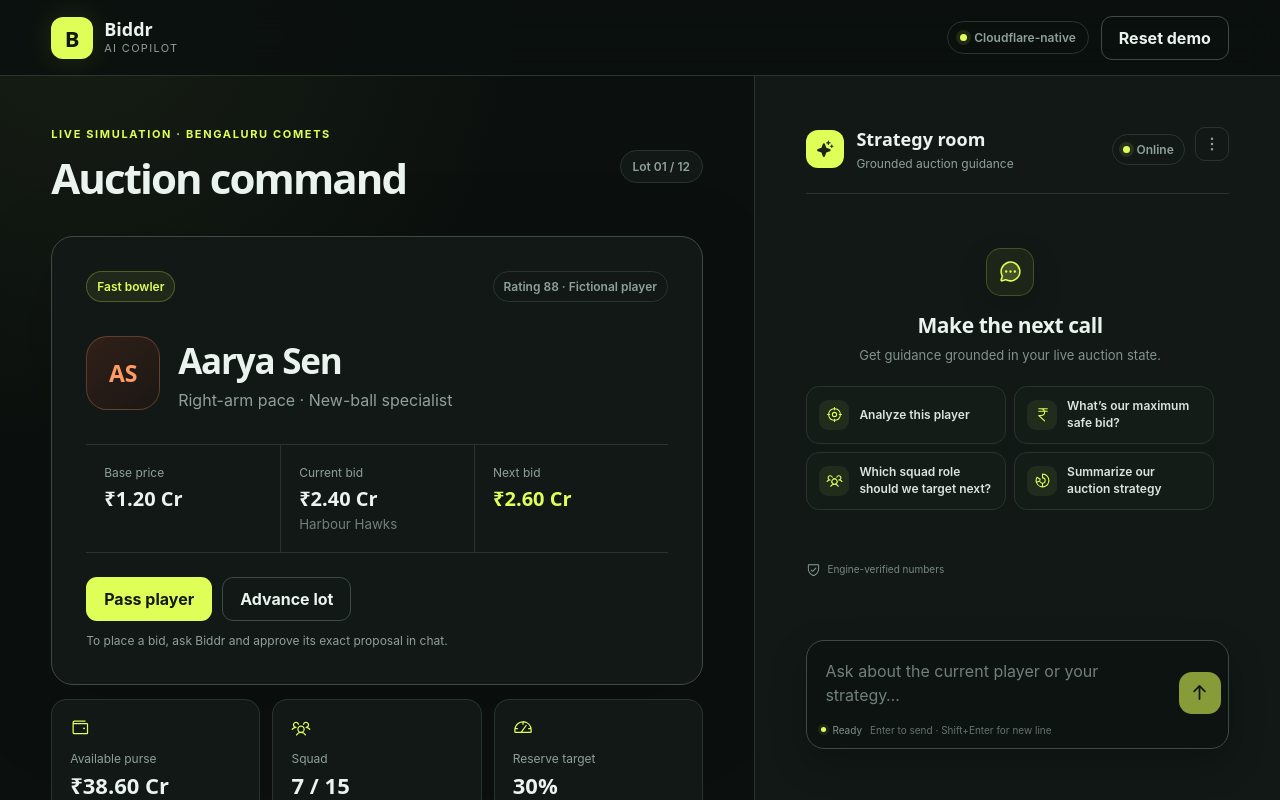
Scenario: Biddr application shell › requires confirmation before resetting the demo
Step 1. Click the button "Reset demo" → (1165, 38), box [1101, 16, 1229, 60]
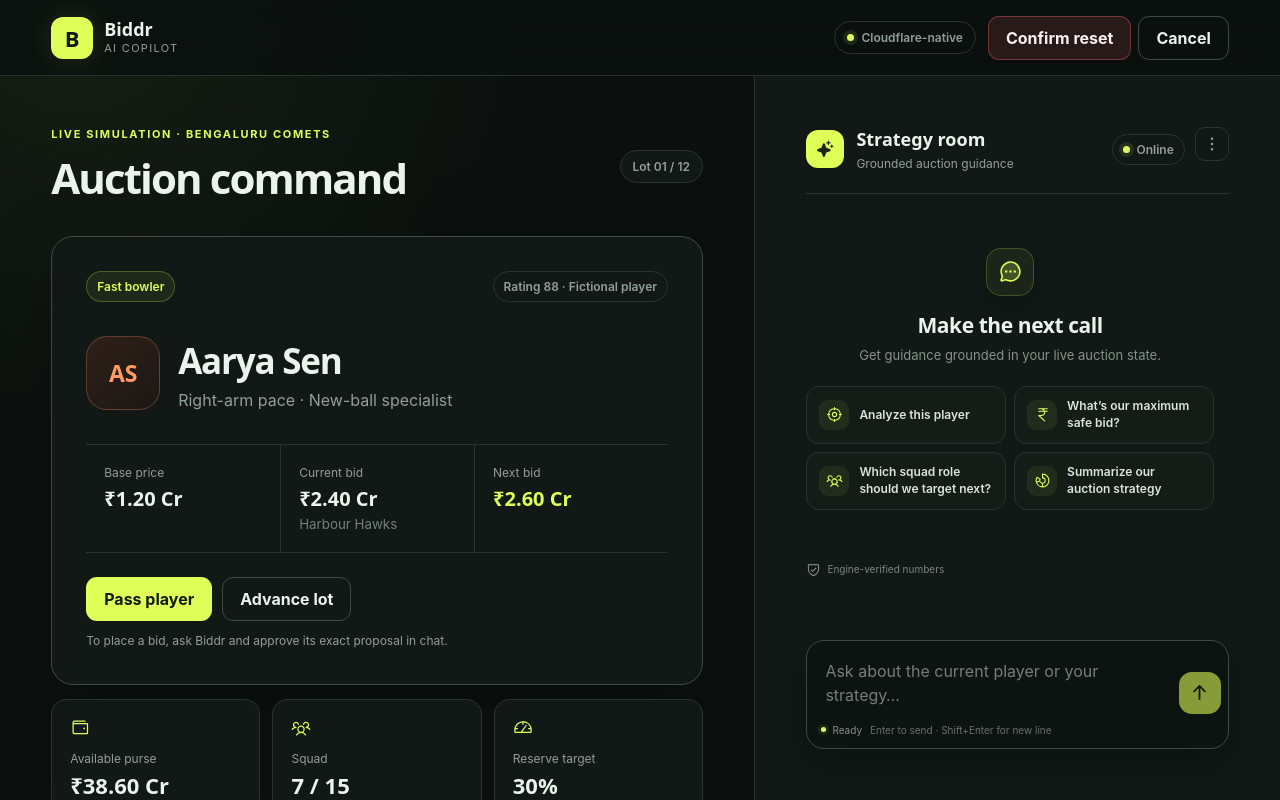
Now the element "Confirm reset" is shown, box [988, 16, 1229, 60]
Step 2. Click the button "Confirm reset" → (1060, 38), box [988, 16, 1132, 60]
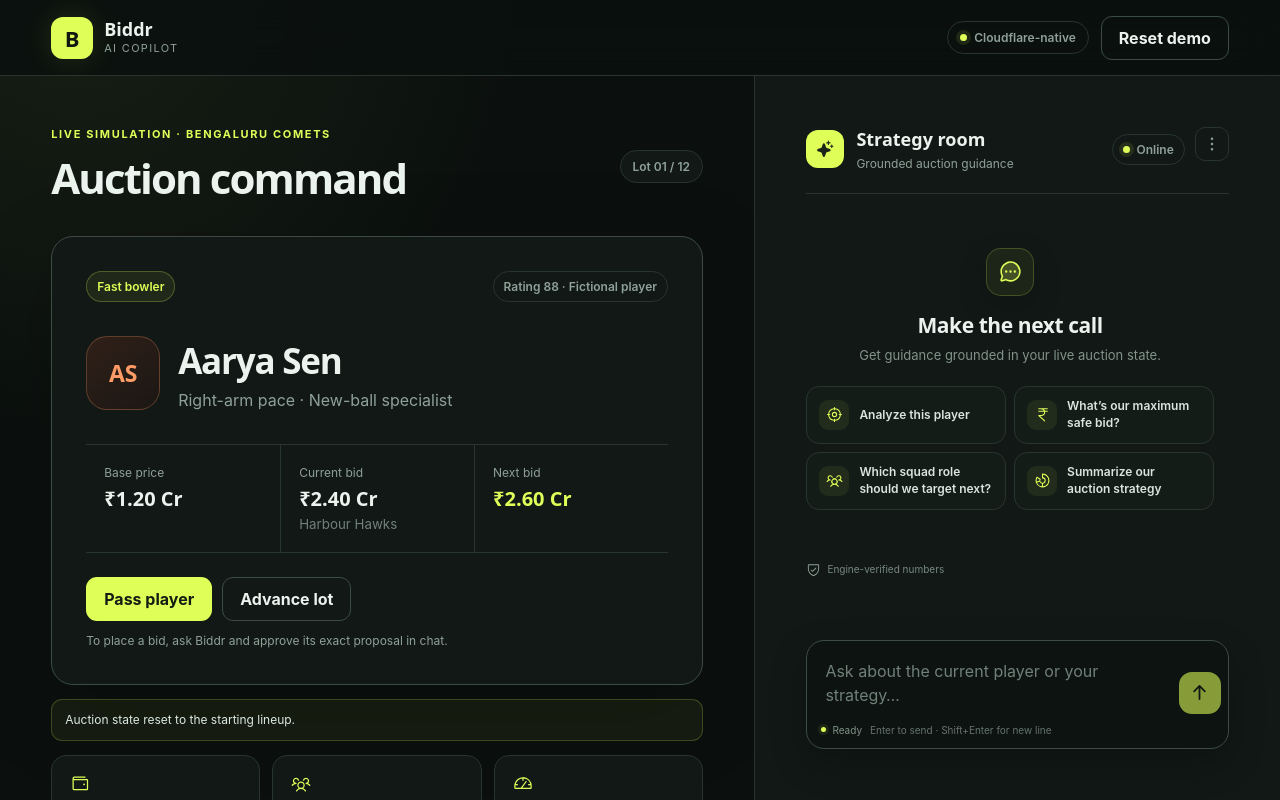
Now the text "Auction state reset to the starting lineup." is shown, box [51, 699, 703, 741]
